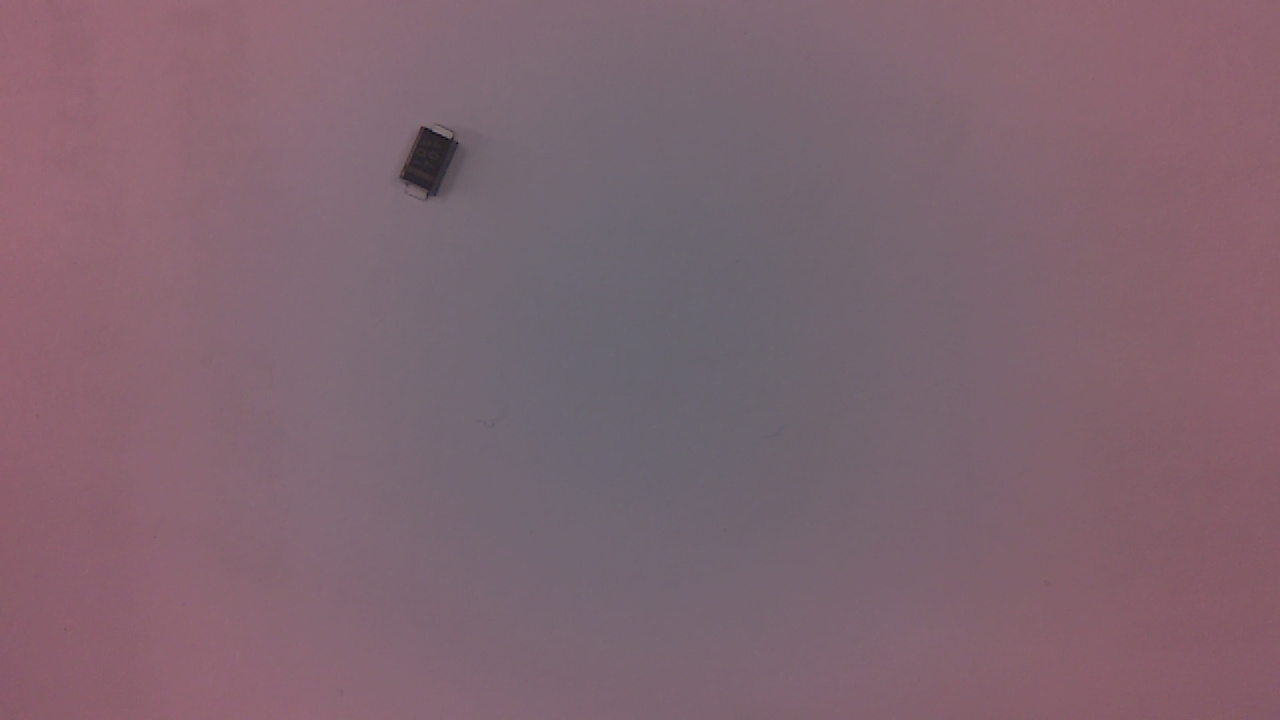Diode: (399, 128, 467, 211)
